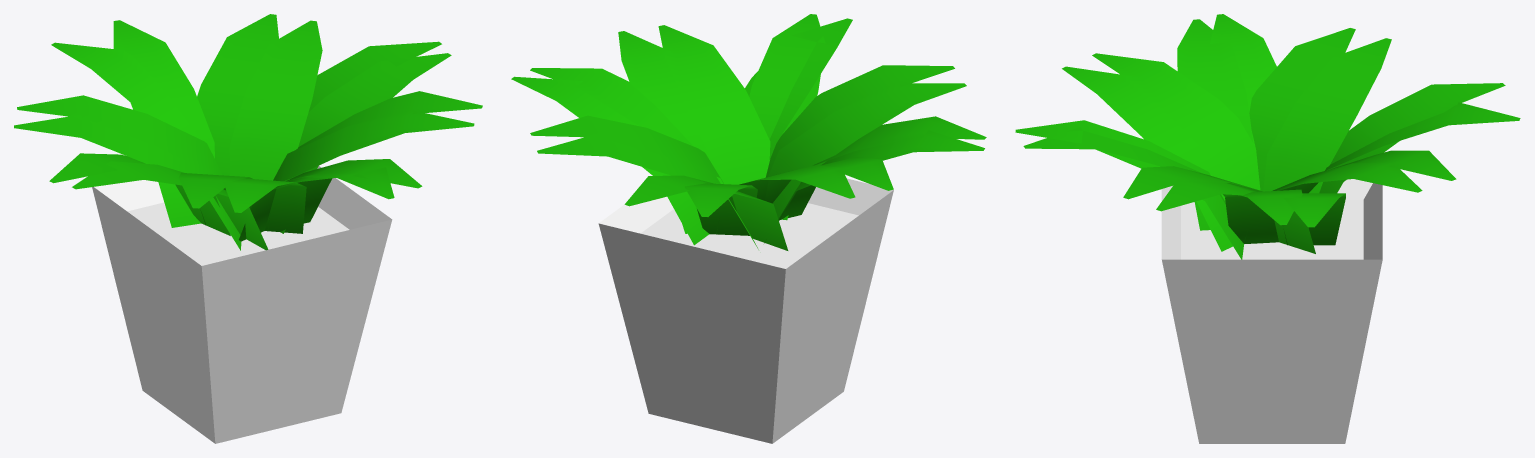
File: Plant.FBX
The picture shows the model from 3 angles, left to right: view 1: azimuth 30°, elevation 25°; view 2: azimuth 150°, elevation 25°; view 3: azimuth 270°, elevation 25°; orthographic projection. The views are drawn at different scales.
Visible parts, largest first — view 1: Pot, Plane015, Plane009, Plane016, Plane007, Plane014, Plane004, Plane006, Plane005, Plane010, Plane008, Plane001 (+5 smaller); view 2: Pot, Plane004, Plane013, Plane003, Plane002, Plane010, Plane014, Plane015, Plane001, Plane016, Plane009, Plane012 (+5 smaller); view 3: Pot, Plane007, Plane013, Plane010, Plane005, Plane006, Plane008, Plane012, Plane014, Plane011, Plane002, Plane016 (+5 smaller).
Part boxes in pixels (left/top/right/bottom): Pot: left=92, top=166, right=392, bottom=443; Plane015: left=229, top=20, right=322, bottom=181; Plane009: left=197, top=14, right=279, bottom=175; Plane016: left=113, top=20, right=214, bottom=227; Plane007: left=17, top=95, right=221, bottom=175; Plane014: left=280, top=53, right=451, bottom=233; Plane004: left=273, top=110, right=474, bottom=181; Plane006: left=51, top=42, right=200, bottom=139; Plane005: left=14, top=114, right=241, bottom=250; Plane010: left=223, top=178, right=306, bottom=233; Plane008: left=72, top=161, right=268, bottom=250; Plane001: left=308, top=41, right=441, bottom=111; Pot: left=598, top=178, right=893, bottom=443; Plane004: left=658, top=25, right=770, bottom=184; Plane013: left=768, top=83, right=966, bottom=218; Plane003: left=749, top=14, right=825, bottom=220; Plane002: left=618, top=31, right=711, bottom=233; Plane010: left=765, top=65, right=954, bottom=177; Plane014: left=530, top=68, right=692, bottom=145; Plane015: left=530, top=115, right=723, bottom=183; Plane001: left=511, top=76, right=709, bottom=245; Plane016: left=624, top=175, right=788, bottom=250; Plane009: left=537, top=134, right=758, bottom=249; Plane012: left=745, top=18, right=852, bottom=159; Pot: left=1161, top=179, right=1382, bottom=443; Plane007: left=1263, top=38, right=1391, bottom=193; Plane013: left=1092, top=53, right=1260, bottom=190; Plane010: left=1062, top=66, right=1232, bottom=251; Plane005: left=1249, top=28, right=1355, bottom=191; Plane006: left=1319, top=83, right=1505, bottom=193; Plane008: left=1177, top=19, right=1253, bottom=230; Plane012: left=1015, top=120, right=1243, bottom=259; Plane014: left=1225, top=189, right=1302, bottom=243; Plane011: left=1210, top=14, right=1276, bottom=112; Plane002: left=1156, top=180, right=1315, bottom=253; Plane016: left=1325, top=102, right=1520, bottom=170.
Bounding box in the file's own units: 153 × 97.97 × 153.
